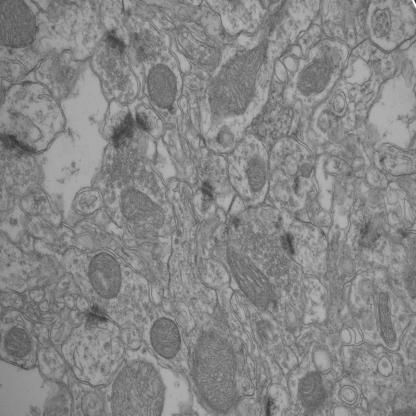mitochondria: (208, 40, 268, 117), (191, 329, 240, 414), (110, 360, 166, 416), (226, 253, 272, 312), (0, 0, 37, 51), (87, 250, 122, 300), (146, 63, 178, 110), (118, 189, 160, 223), (149, 316, 181, 359), (295, 57, 330, 96), (296, 371, 326, 412), (376, 290, 397, 348), (3, 326, 32, 360), (245, 158, 267, 192), (300, 162, 312, 178)
